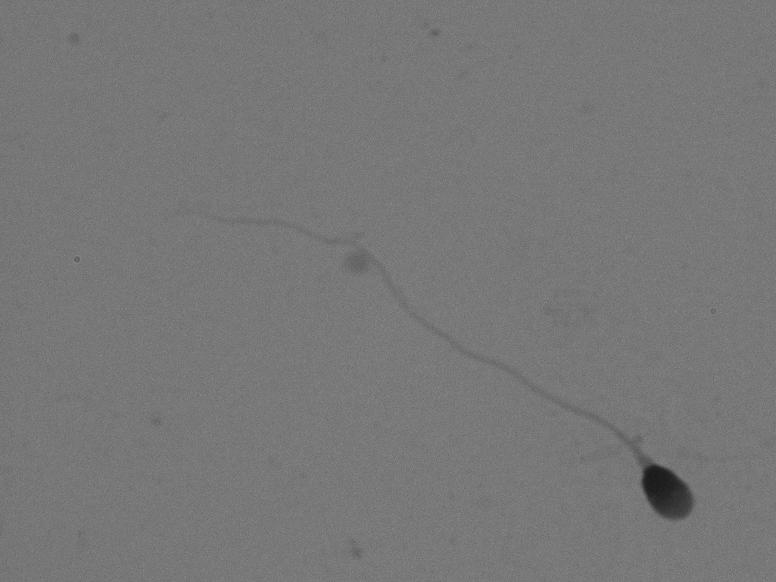Normal: (158, 178, 710, 531)
